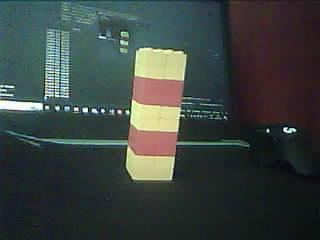lego: (125, 47, 187, 181)
